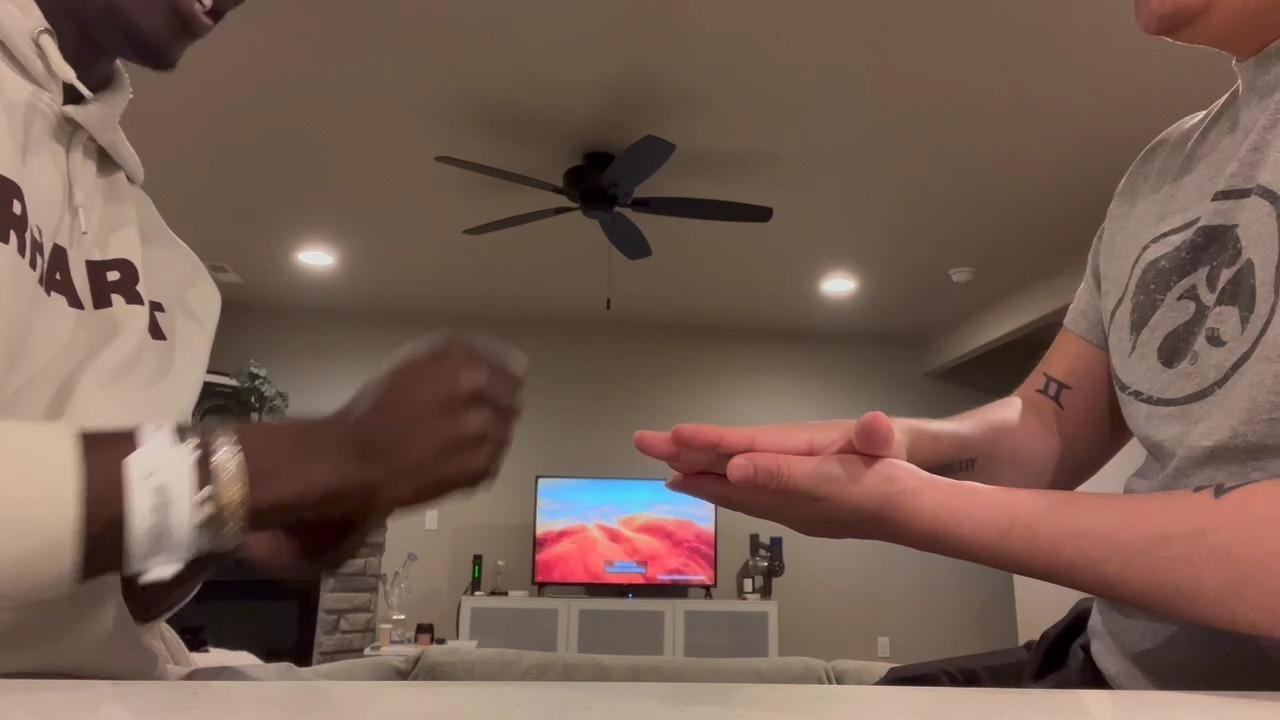Paper: (633, 412, 917, 479)
Rock: (342, 323, 531, 511)
